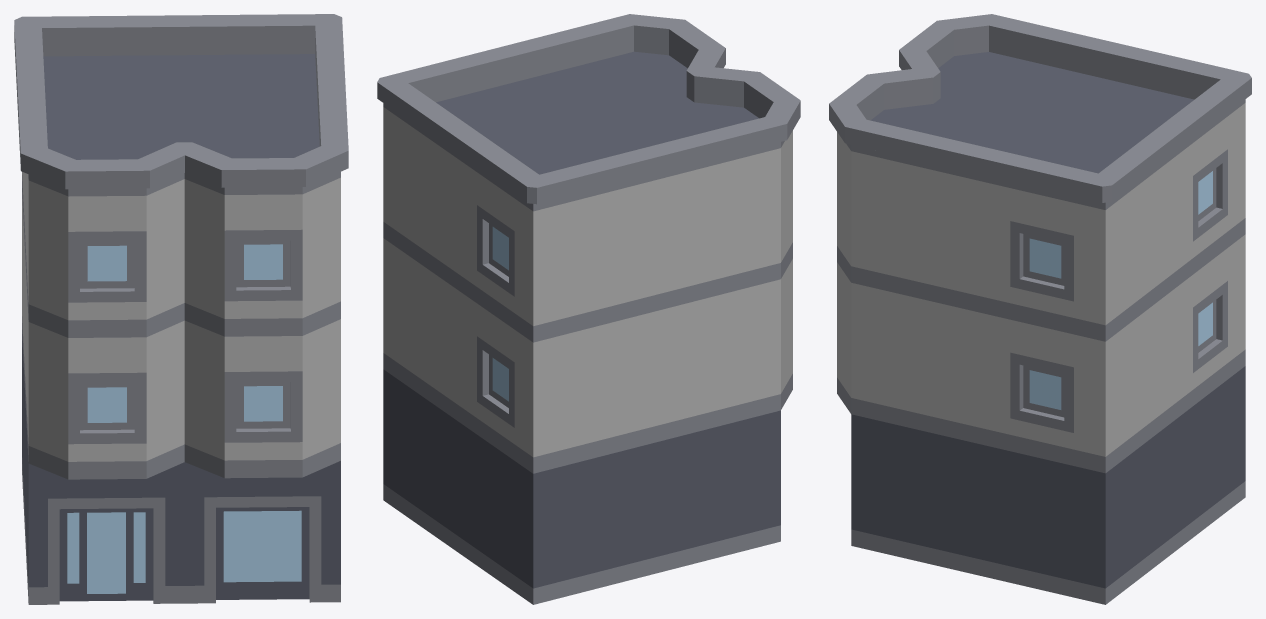
File: variant_21.fbx
3 renders of one model, left to right at view 1: azimuth 30°, elevation 25°; view 2: azimuth 150°, elevation 25°; view 3: azimuth 270°, elevation 25°, orthographic. The views are drawn at different scales.
Visible parts, largest first — view 1: small_buildingA; view 2: small_buildingA; view 3: small_buildingA.
Boxes of the visible parts, <box> form: small_buildingA: <box>14,14,348,604</box>; small_buildingA: <box>377,14,800,604</box>; small_buildingA: <box>829,14,1251,604</box>.
Bounding box in the file's own units: 113 × 128 × 116.
